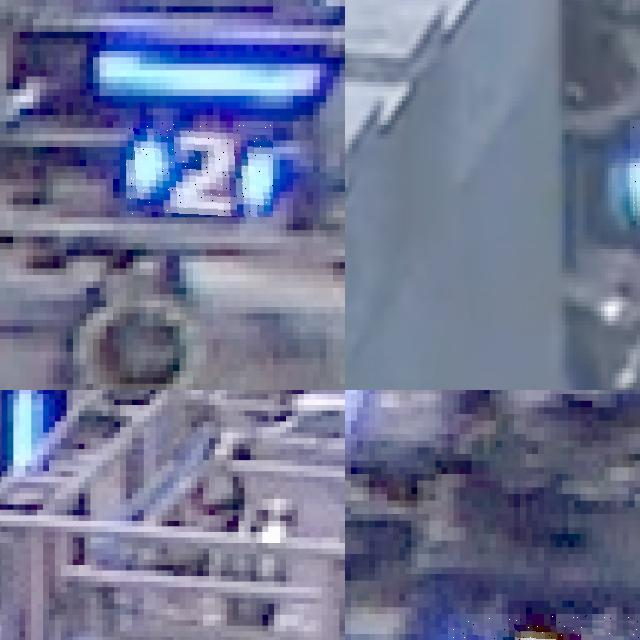B2: (126, 121, 273, 218)
